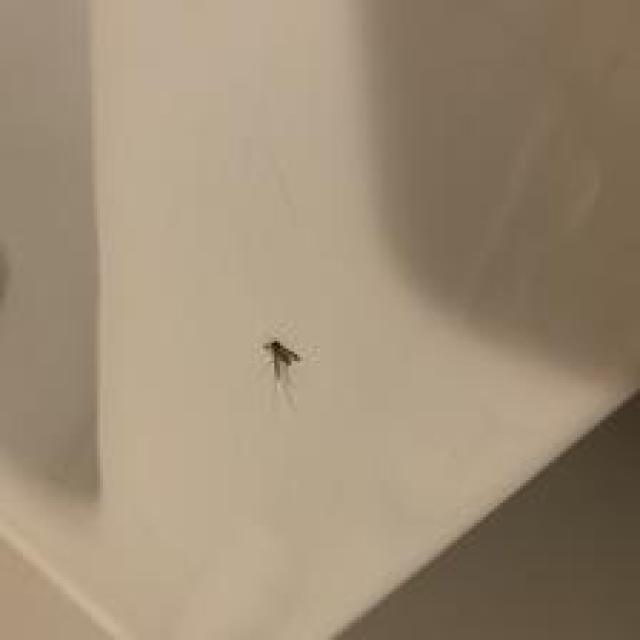Culex: (262, 337, 302, 380)
